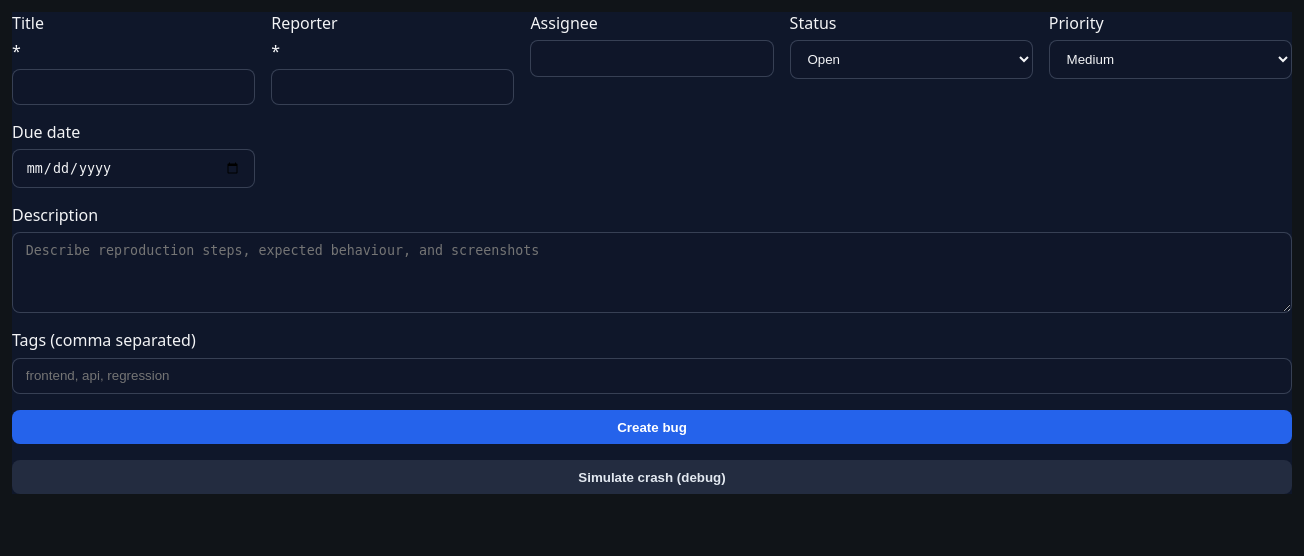
Scenario: BugForm › shows validation messages when required fields missing
Click the button "Create bug": (652, 427) 12,410 -> 1292,444
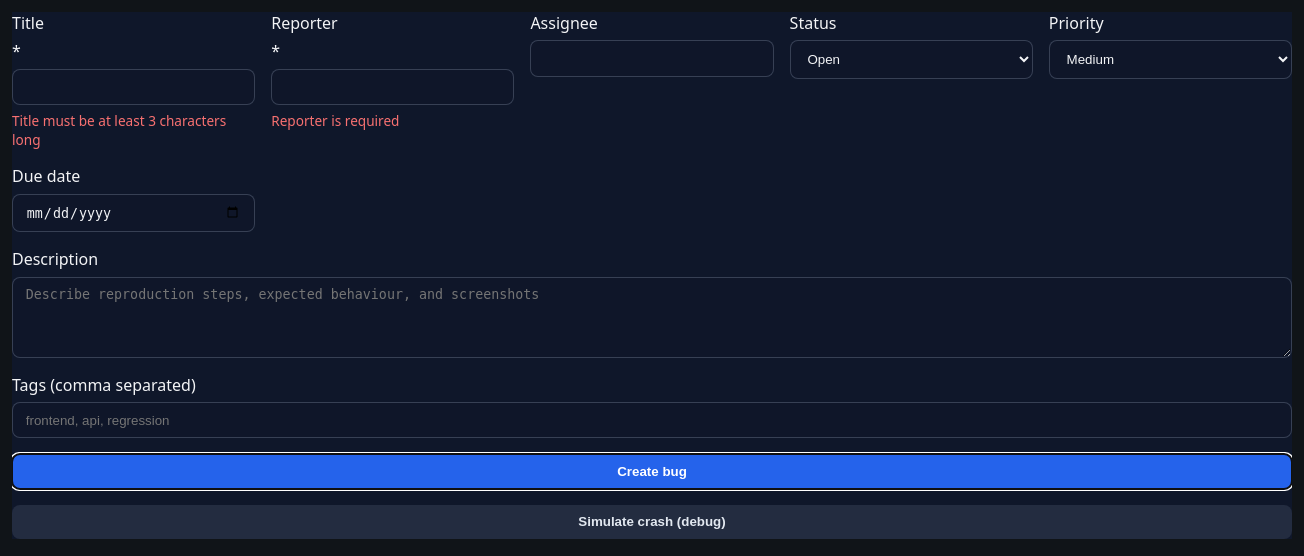
Result: the text "Title must be at least 3 characters long" is shown at 12,111 -> 255,149
Result: the text "Reporter is required" is shown at 271,111 -> 400,130
